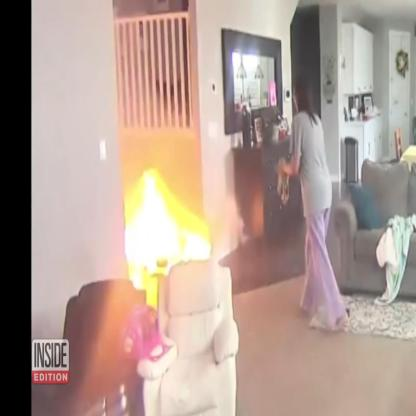fire: (125, 169, 212, 288)
